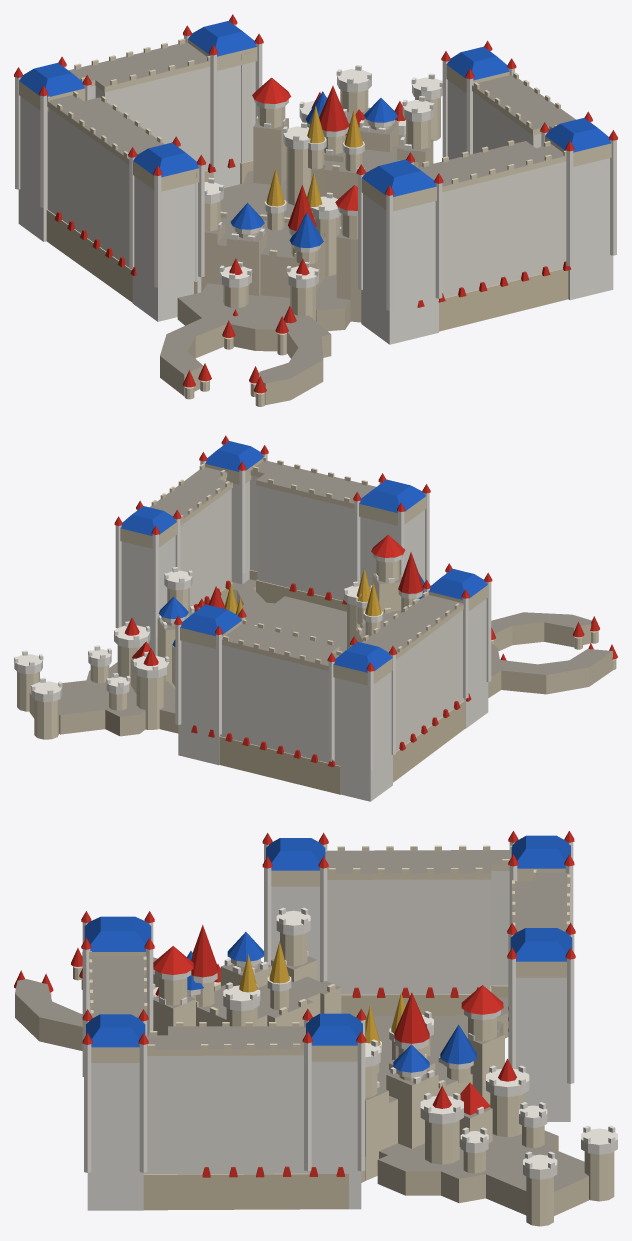
Rendered from excalibur.glb.
3 renders of one model, top to bottom at view 1: azimuth 30°, elevation 25°; view 2: azimuth 150°, elevation 25°; view 3: azimuth 270°, elevation 25°, orthographic. The views are drawn at different scales.
Parts seen in each view (by area): view 1: CastleHotel; view 2: CastleHotel; view 3: CastleHotel.
Part boxes in pixels (left/top/right/bottom): CastleHotel: left=14, top=14, right=617, bottom=406; CastleHotel: left=14, top=435, right=617, bottom=801; CastleHotel: left=14, top=831, right=617, bottom=1226.
Size of the model in its own units: 246 by 80.8 by 248.
